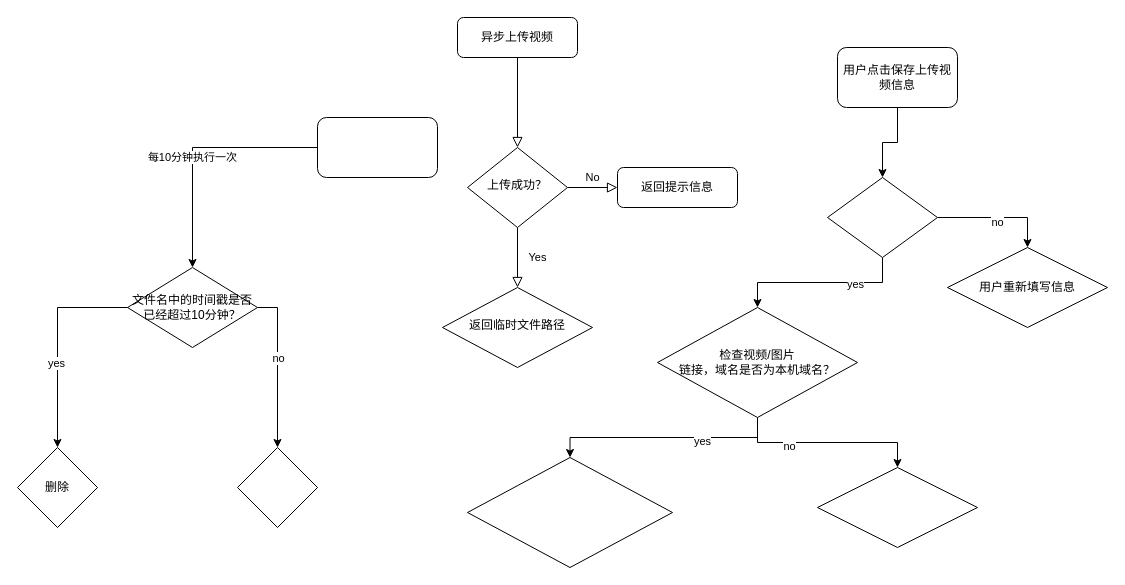
Image size: 1125x585. Some labels were removed from this diagram. Here are the shapes that lost their labels. From the top down, the centre of each, then its label:
At pixel 377 147: "定时任务".
At pixel 882 217: "信息是否合法？".
At pixel 277 487: "继续保留".
At pixel 897 507: "直接保存到数据库".
At pixel 569 512: "把临时文件夹下的文件，转移到正真的文件夹中".
